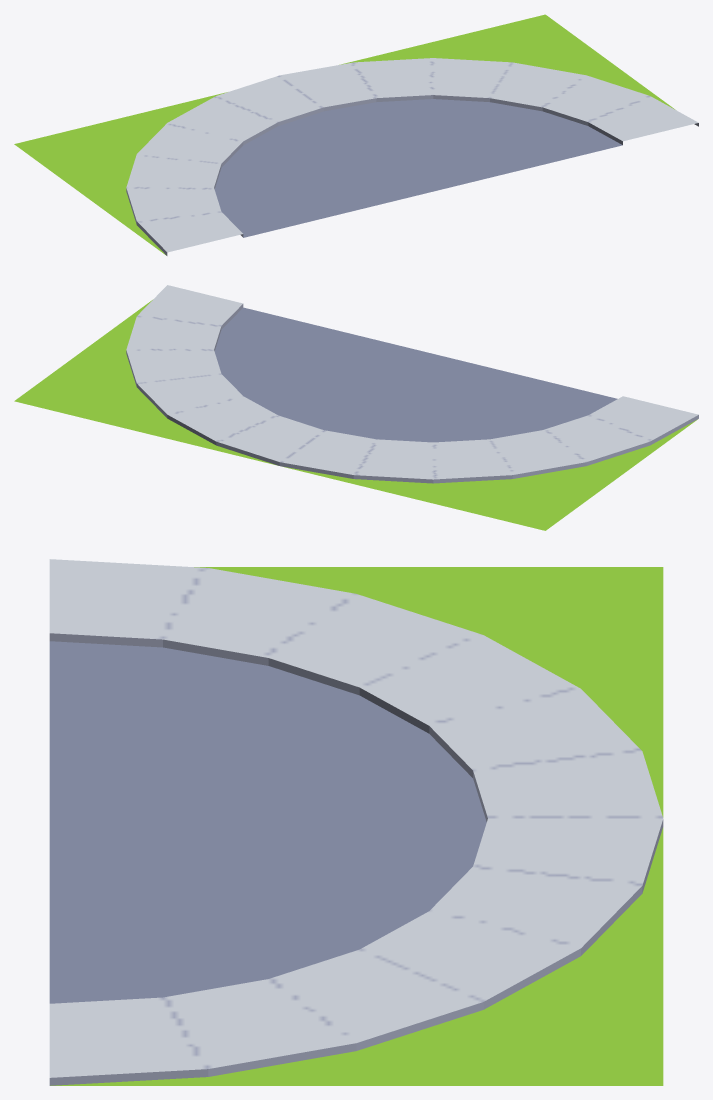
The model's file is street_end.glb.
3 views of the same model, one above another, from view 1: azimuth 30°, elevation 25°; view 2: azimuth 150°, elevation 25°; view 3: azimuth 270°, elevation 25° (orthographic). The views are drawn at different scales.
Parts seen in each view (by area): view 1: Circle; view 2: Circle; view 3: Circle.
Part boxes in pixels (x1,y1,x2,y2): Circle: [14, 14, 698, 255]; Circle: [14, 285, 698, 530]; Circle: [49, 559, 663, 1085].
Bounding box in the file's own units: 14 × 0.1 × 7.
1 material, 1 textured.
